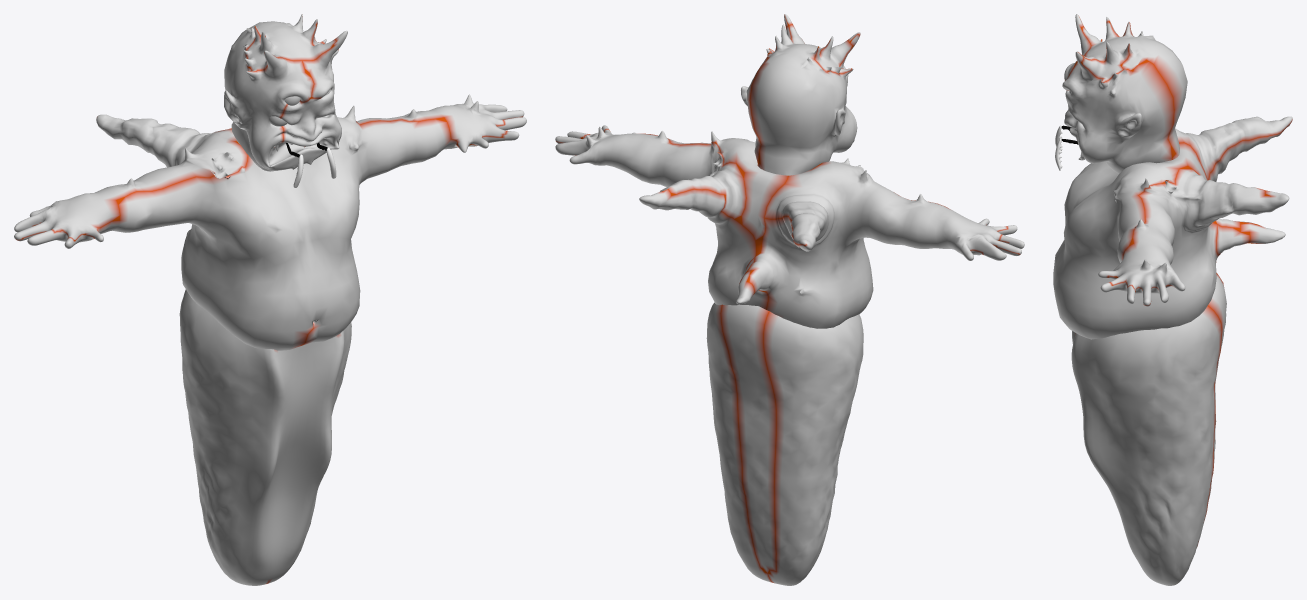
File: Final_BabyMonster_Low.fbx
3 renders of one model, left to right at view 1: azimuth 30°, elevation 25°; view 2: azimuth 150°, elevation 25°; view 3: azimuth 270°, elevation 25°, orthographic. The views are drawn at different scales.
Visible parts, largest first — view 1: Body_low; view 2: Body_low; view 3: Body_low, mandible_low.
Boxes of the visible parts, x1,y1,x2,y2 form: Body_low: (14,14,526,585); Body_low: (555,14,1024,585); Body_low: (1053,14,1292,585); mandible_low: (1055,125,1078,170).
Size of the model in its own units: 979 by 1067 by 420.
